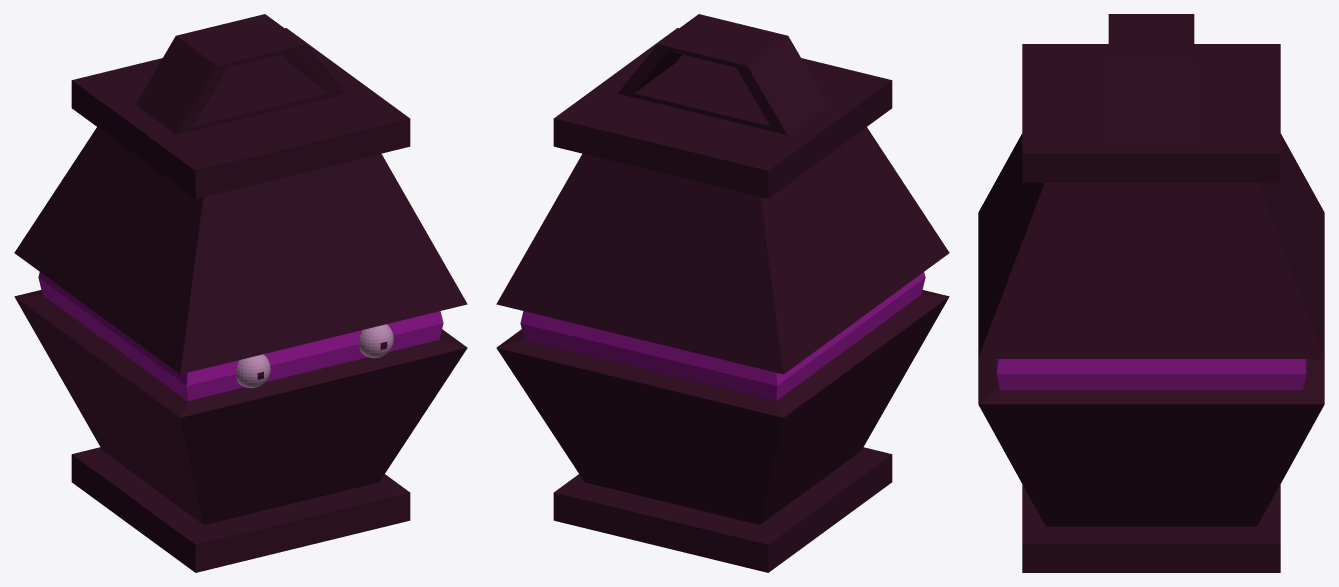
The model's file is lantiee.fbx.
3 views of the same model, side by side, from view 1: azimuth 30°, elevation 25°; view 2: azimuth 150°, elevation 25°; view 3: azimuth 270°, elevation 25° (orthographic). The views are drawn at different scales.
Visible parts, largest first — view 1: Cube; view 2: Cube; view 3: Cube.
Boxes of the visible parts, <box> form: Cube: <box>14,14,467,572</box>; Cube: <box>496,14,949,572</box>; Cube: <box>978,14,1324,572</box>.
Size of the model in its own units: 464 by 712 by 464.
